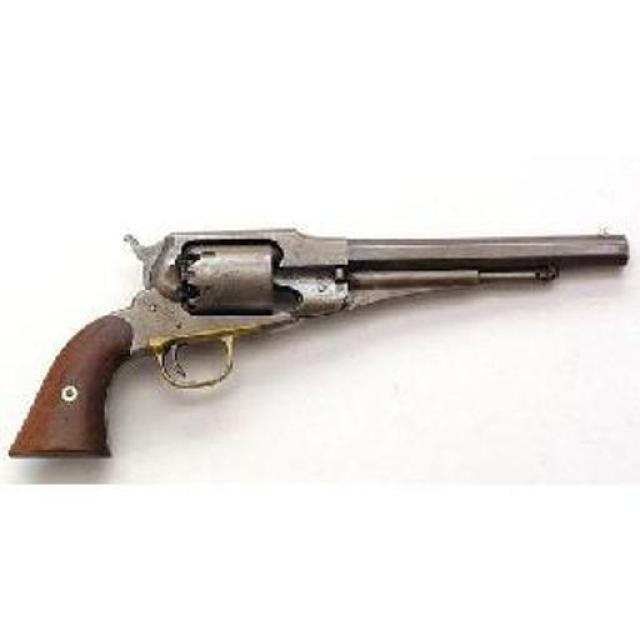pistol: (7, 221, 626, 457)
